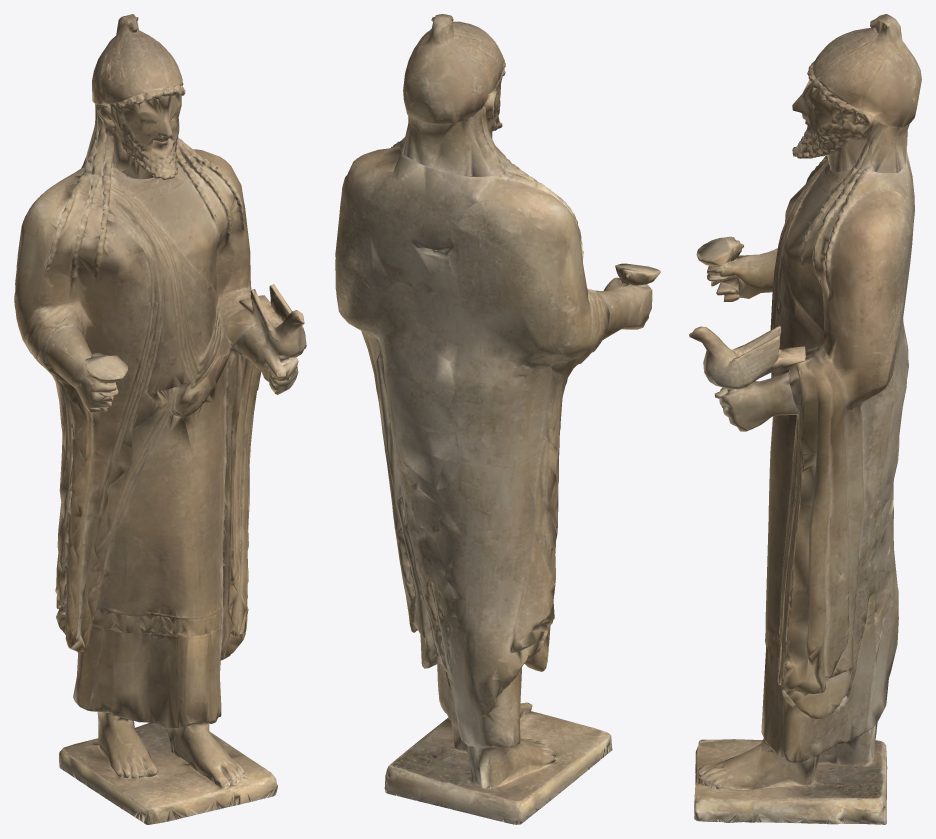
File: preview.glb
The picture shows the model from 3 angles, left to right: view 1: azimuth 30°, elevation 25°; view 2: azimuth 150°, elevation 25°; view 3: azimuth 270°, elevation 25°; orthographic projection. The views are drawn at different scales.
Visible parts, largest first — view 1: ADVIMG_74_51_2466_CypriotPriest_12M_n3d; view 2: ADVIMG_74_51_2466_CypriotPriest_12M_n3d; view 3: ADVIMG_74_51_2466_CypriotPriest_12M_n3d.
Part boxes in pixels (left/top/right/bottom): ADVIMG_74_51_2466_CypriotPriest_12M_n3d: left=14, top=14, right=306, bottom=824; ADVIMG_74_51_2466_CypriotPriest_12M_n3d: left=335, top=14, right=660, bottom=824; ADVIMG_74_51_2466_CypriotPriest_12M_n3d: left=689, top=14, right=921, bottom=824.
Bounding box in the file's own units: 0.6929 × 2.13 × 0.5759.
Materials: 1 (1 with a texture image).
